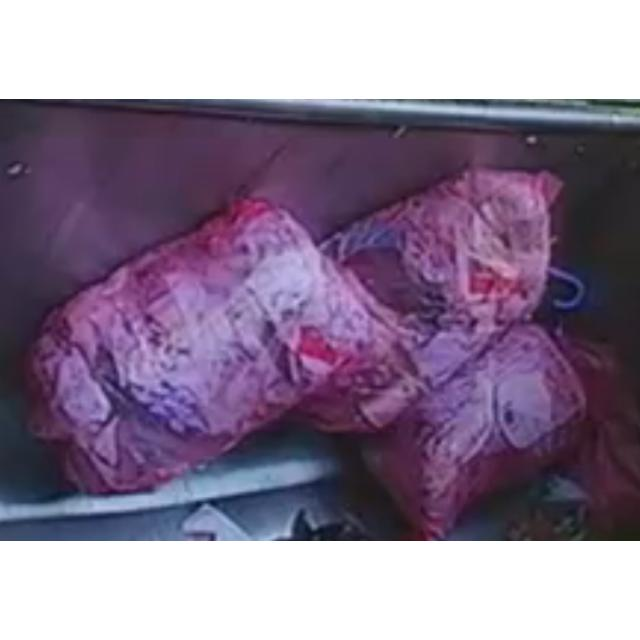other_trashbag: (30, 200, 378, 492), (308, 170, 561, 427), (364, 323, 585, 538)
